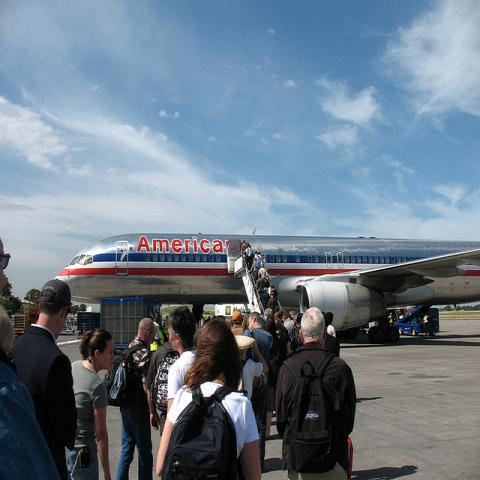bus: (395, 306, 439, 338)
